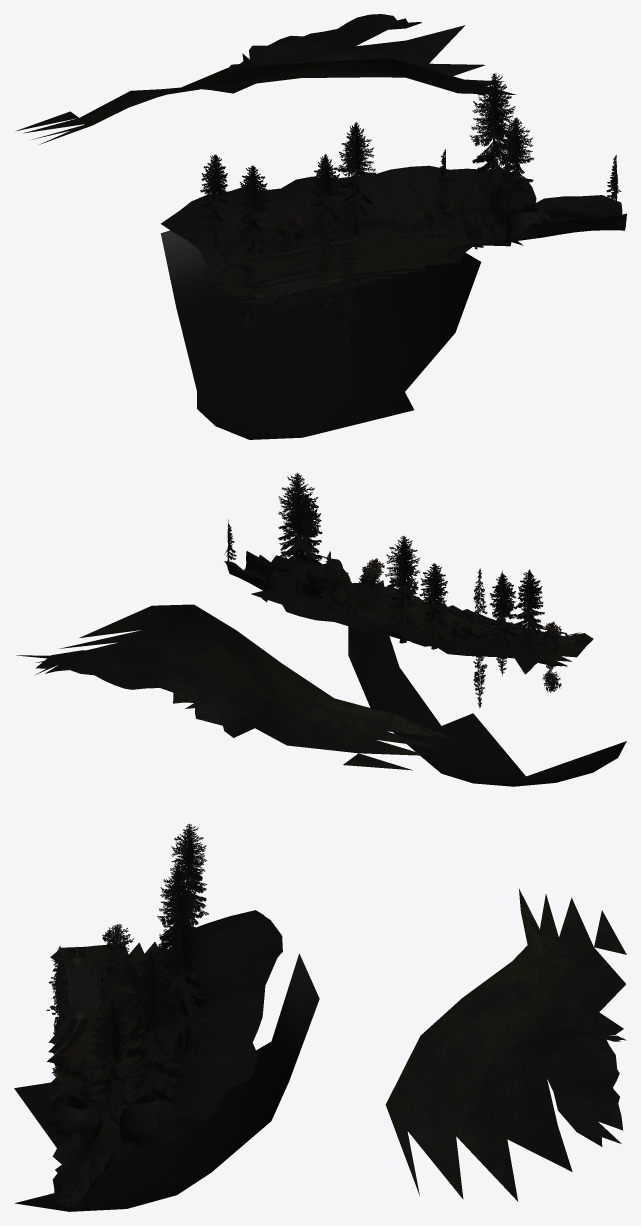
Rendered from cell_4_-17.gltf.
3 views of the same model, one above another, from view 1: azimuth 30°, elevation 25°; view 2: azimuth 150°, elevation 25°; view 3: azimuth 270°, elevation 25° (orthographic). The views are drawn at different scales.
Visible parts, largest first — view 1: cell_4_-17; view 2: cell_4_-17; view 3: cell_4_-17.
Boxes of the visible parts, box(x1,y1,x2,y2) form: cell_4_-17: box(15, 14, 626, 439); cell_4_-17: box(16, 472, 626, 786); cell_4_-17: box(14, 823, 626, 1211).
Size of the model in its own units: 302 by 188 by 281.
34 materials, 34 textured.
